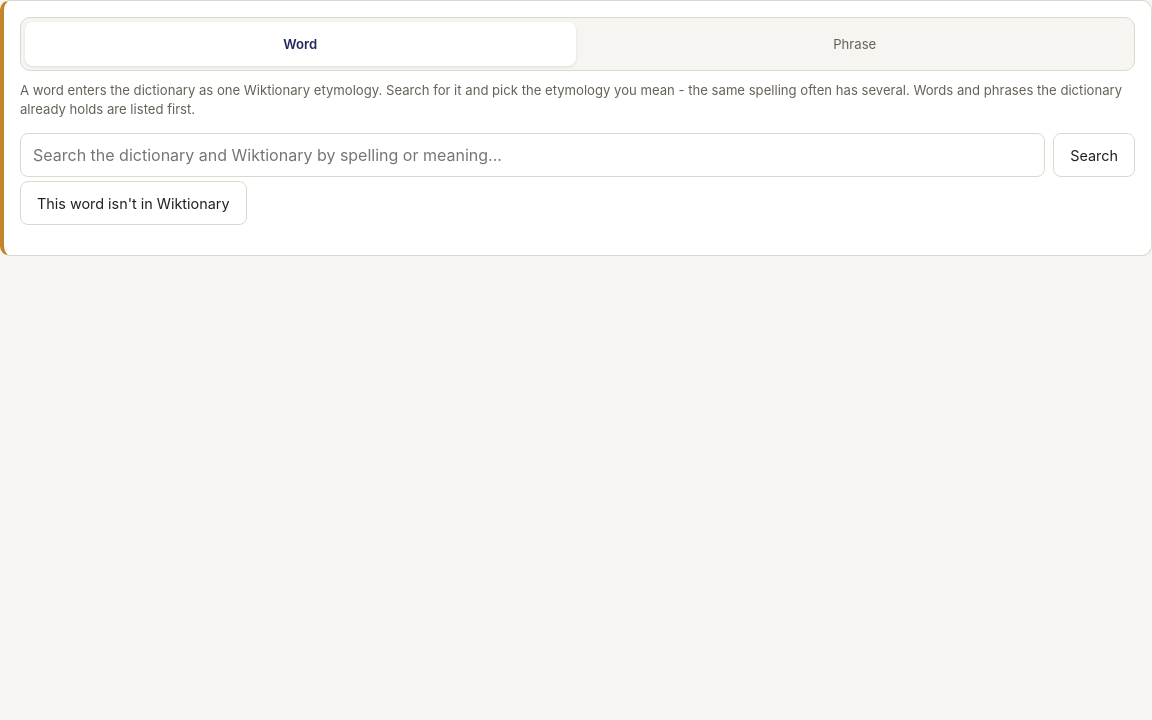
Scenario: AddWord - Word tab › defaults the spelling to the result actually picked, not standardForms[0]
Click the button "Search": click(1094, 155) [1053,133,1135,177]
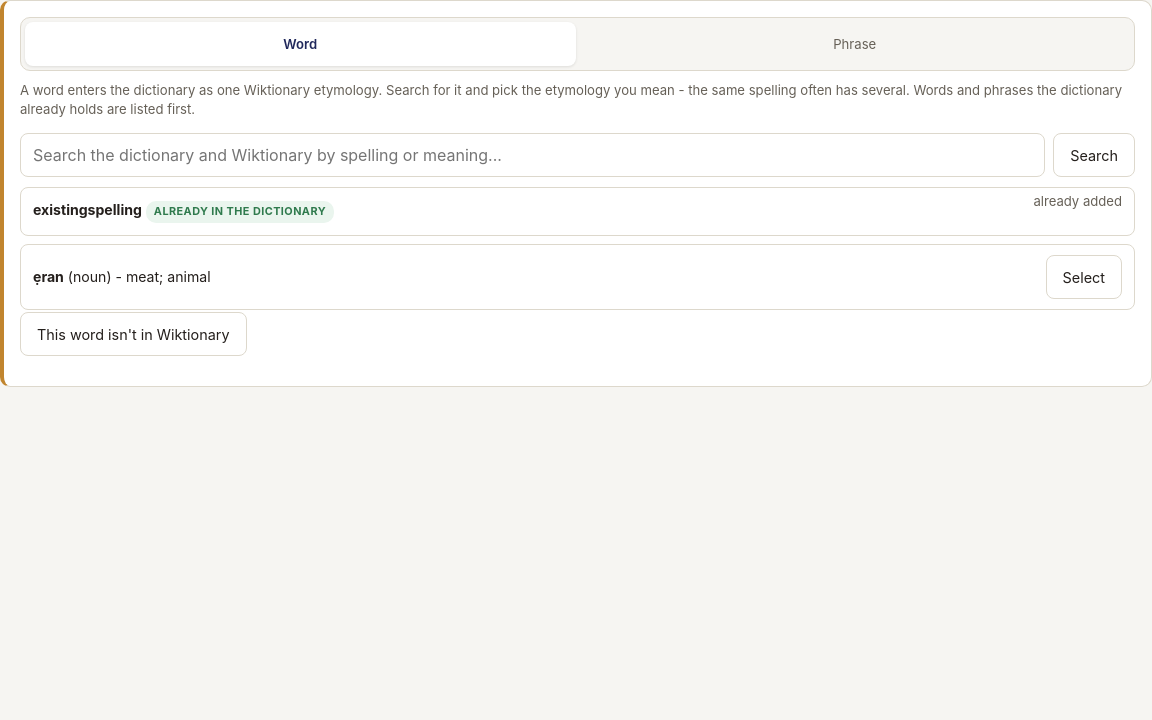
Expected: the text "ẹran" is shown, [33,268,64,285]
Click the button "Select": click(1084, 277) [1046,255,1122,299]
(page scrolled)
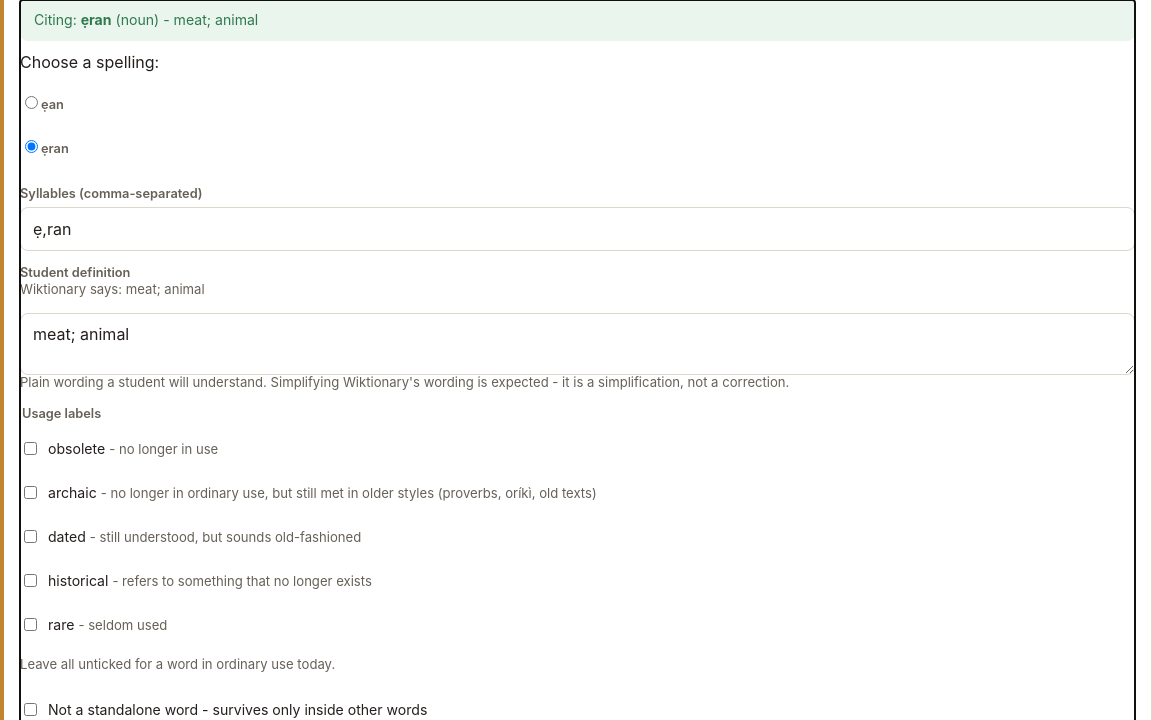
Expected: the number of radio buttons is 2, [25,96,38,109]; [25,140,38,153]
Expected: the radio button labelled "ẹran" is checked, [25,140,38,153]
Expected: the radio button labelled "ẹan" is not checked, [25,96,38,109]
